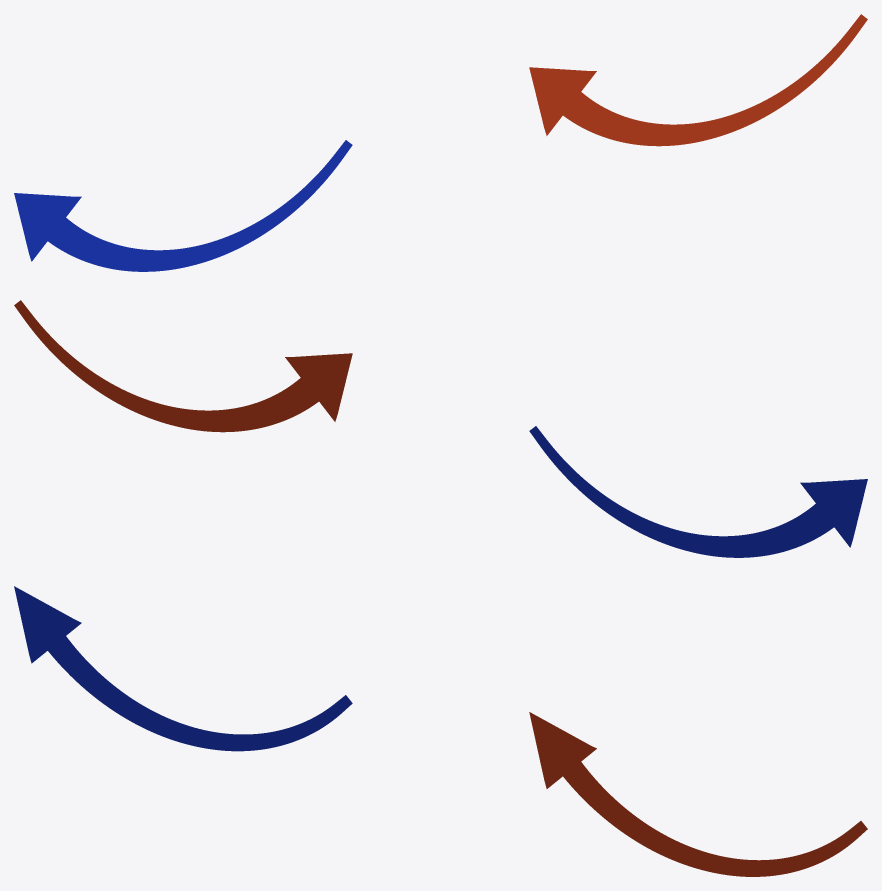
File: faucet1_arrow.fbx
3 views of the same model, one above another, from view 1: azimuth 30°, elevation 25°; view 2: azimuth 150°, elevation 25°; view 3: azimuth 330°, elevation 25° (orthographic).
Parts seen in each view (by area): view 1: merge3; view 2: merge3; view 3: merge3.
Part boxes in pixels (bbox=[...]): merge3: bbox=[14, 14, 867, 271]; merge3: bbox=[14, 300, 867, 557]; merge3: bbox=[14, 586, 867, 876].
Bounding box in the file's own units: 1.45 × 0.1882 × 0.
